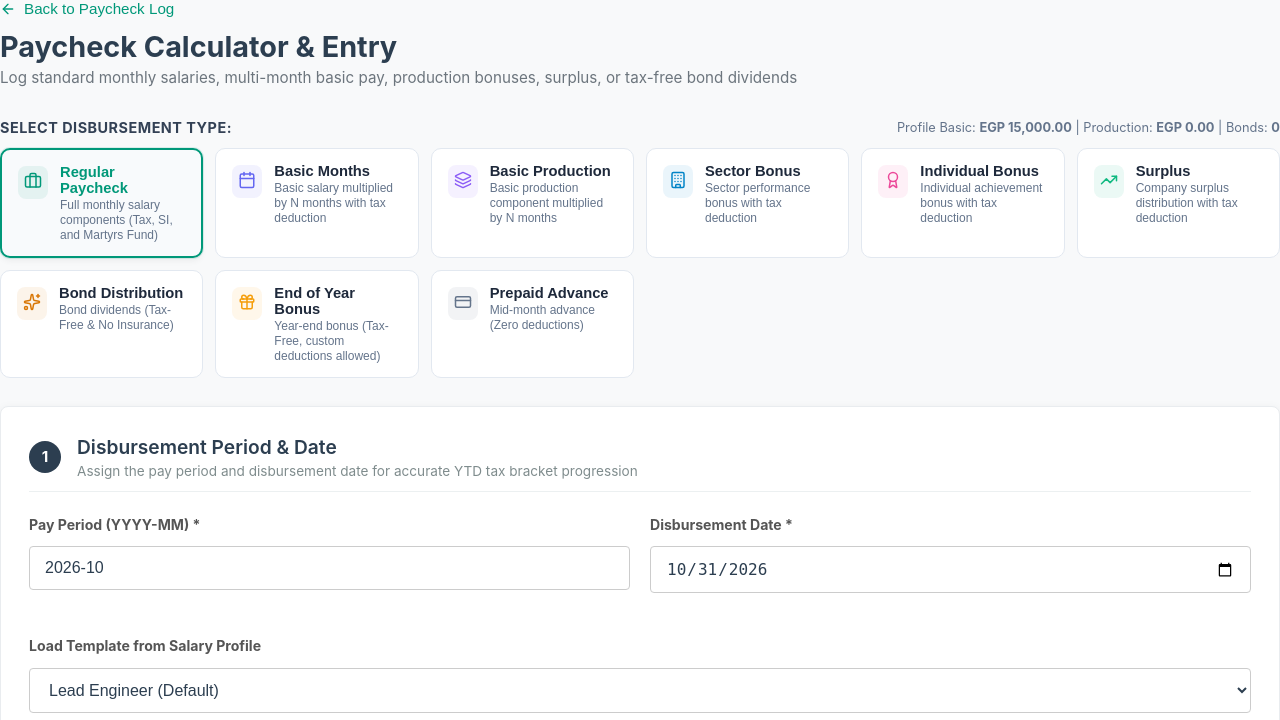
it: Step 5B.2: [AUD-TEST-002] PaycheckFormPage User Journey & Statutory Verification › 6. normalizes payDate input to UTC midday and navigates to /paycheck-log upon valid form submission
# Set payDate to a specific calendar date (which also syncs period to 2024-05)
Type "2024-05-15" into the date field. click: coordinates (950, 570)
box: [650, 546, 1251, 593]
(page scrolled)
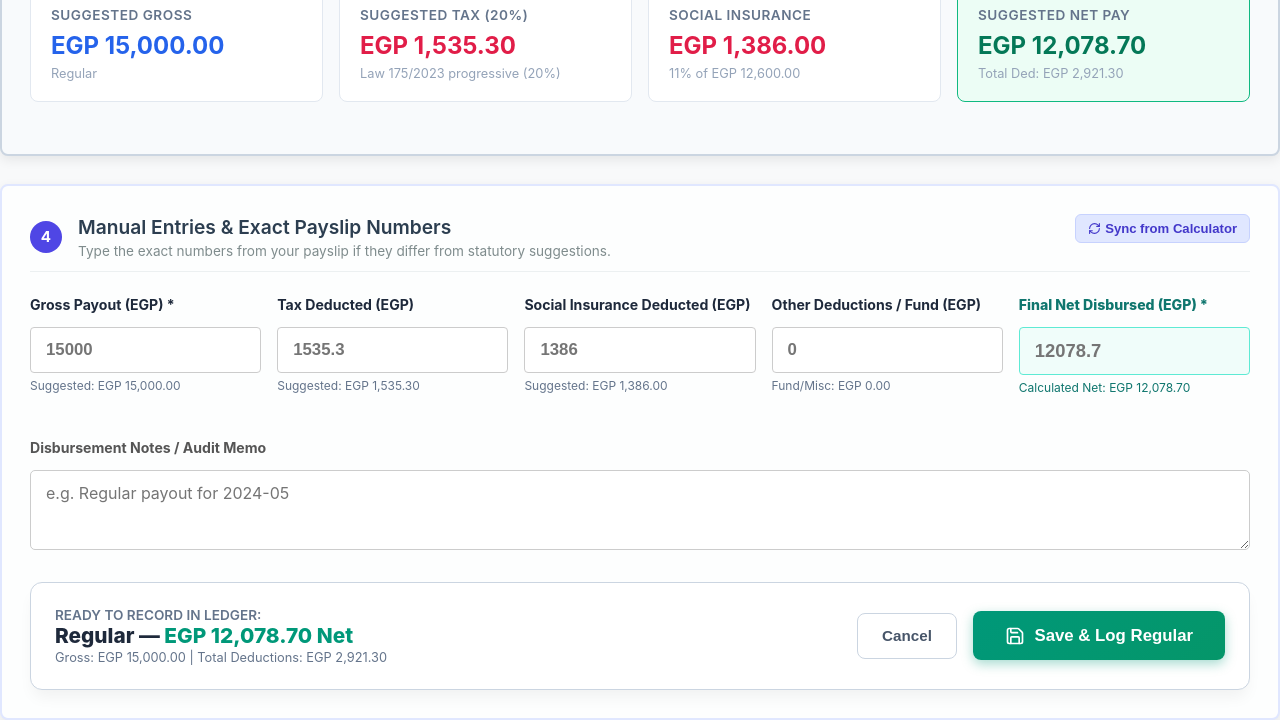
# Submit the form
Click the button "Save & Log Regular". click: coordinates (1099, 636)
box: [973, 611, 1225, 660]
(page scrolled)
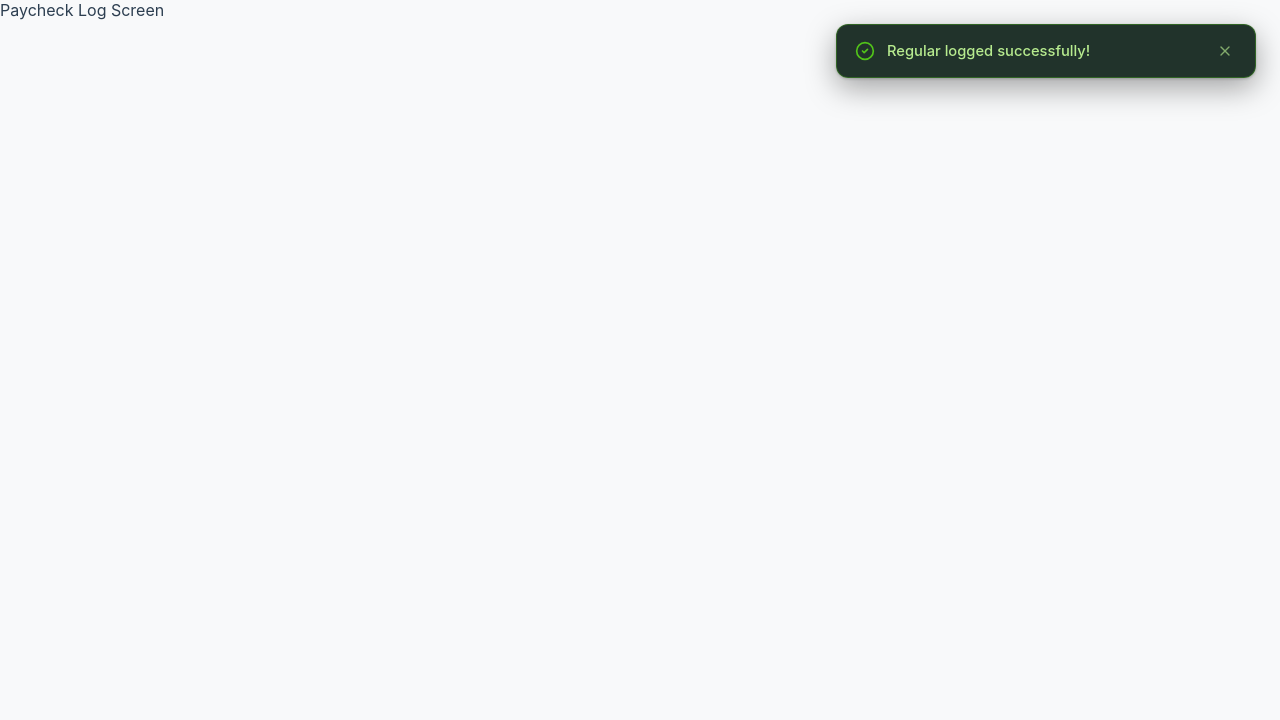
Expected: the text "Paycheck Log Screen" is shown, [0, 0, 164, 20]
